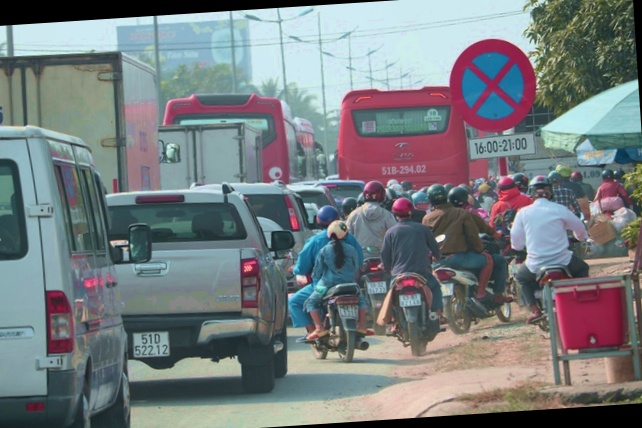Bien-so: (131, 322, 166, 355), (333, 308, 351, 326), (391, 303, 412, 318), (363, 287, 381, 300), (434, 294, 443, 308)
